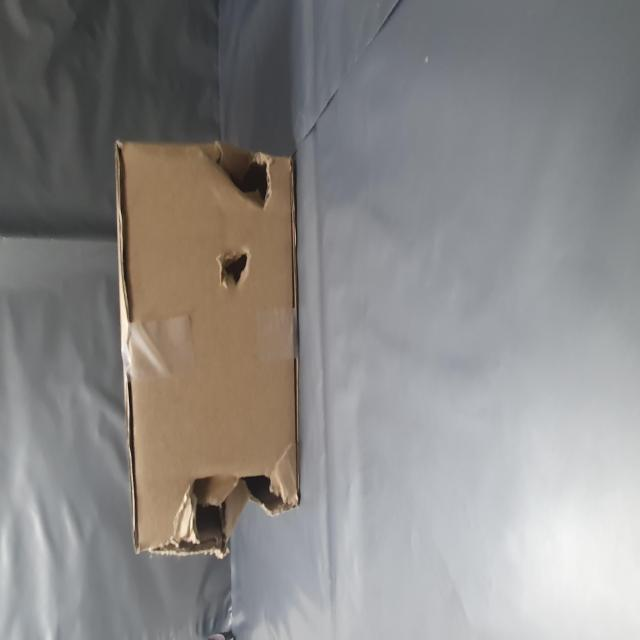damaged: (38, 316, 113, 532), (237, 366, 285, 492), (190, 375, 227, 450)
